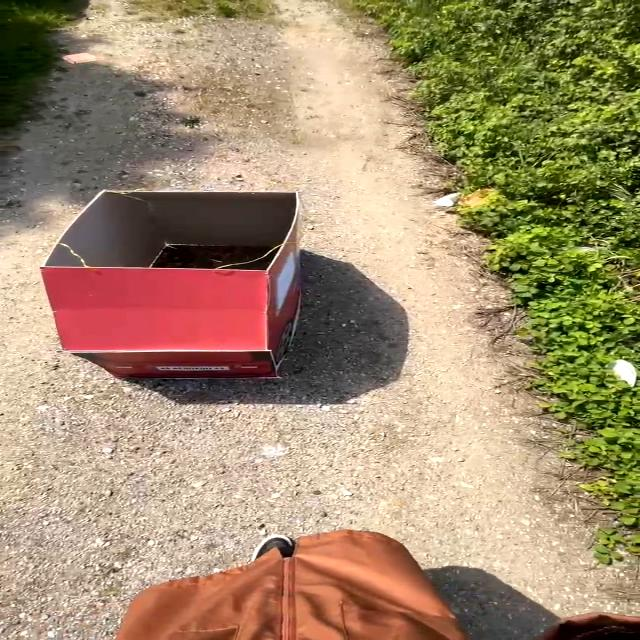red_car: (1, 161, 341, 399)
